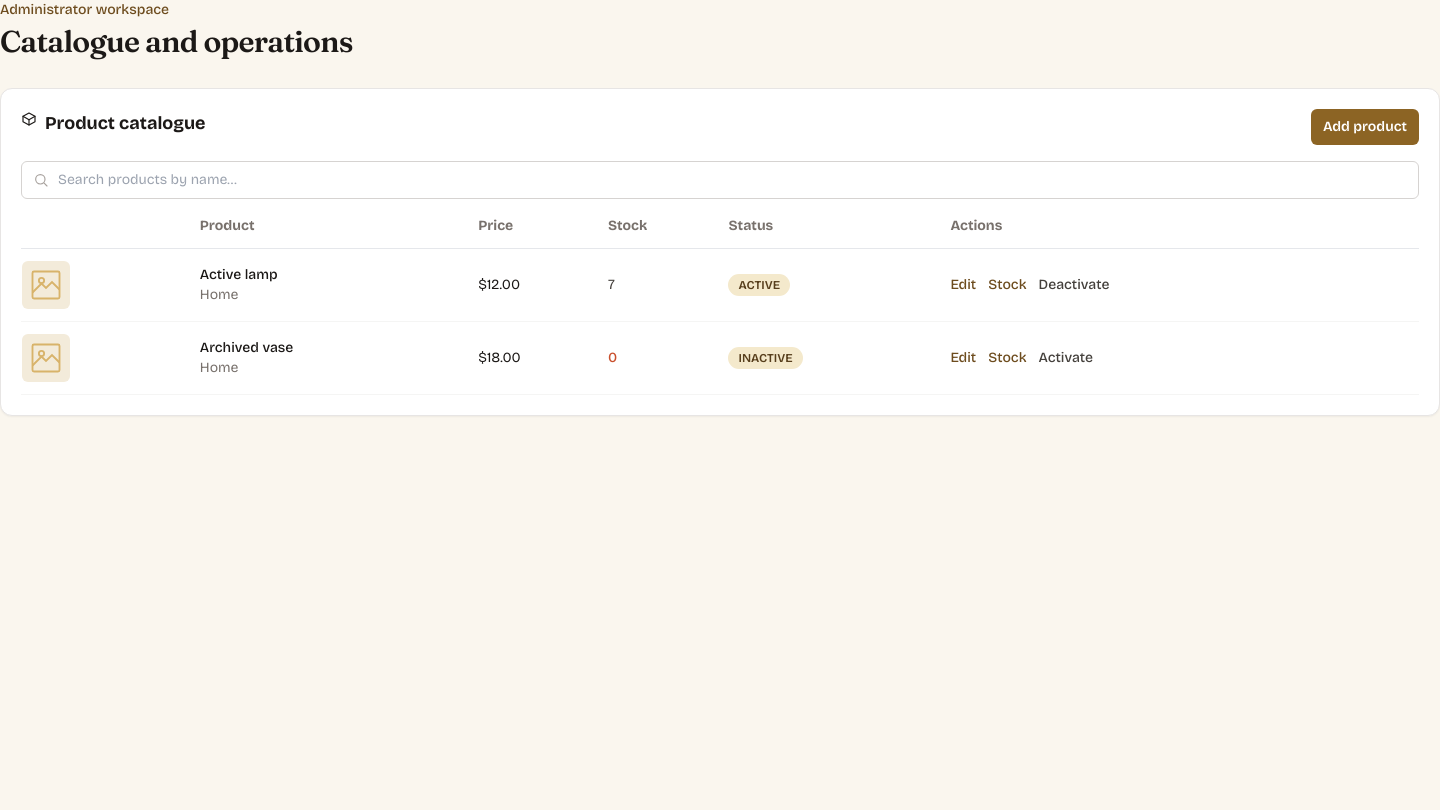
Test: AdminPanel inventory loading › prevents stock from being added twice while a restock is running
Expected: the text "Active lamp" is shown, [200,266,278,283]
Click the button "Stock" in the row of "Active lamp" at (1007, 285), box [988,275,1026,295]
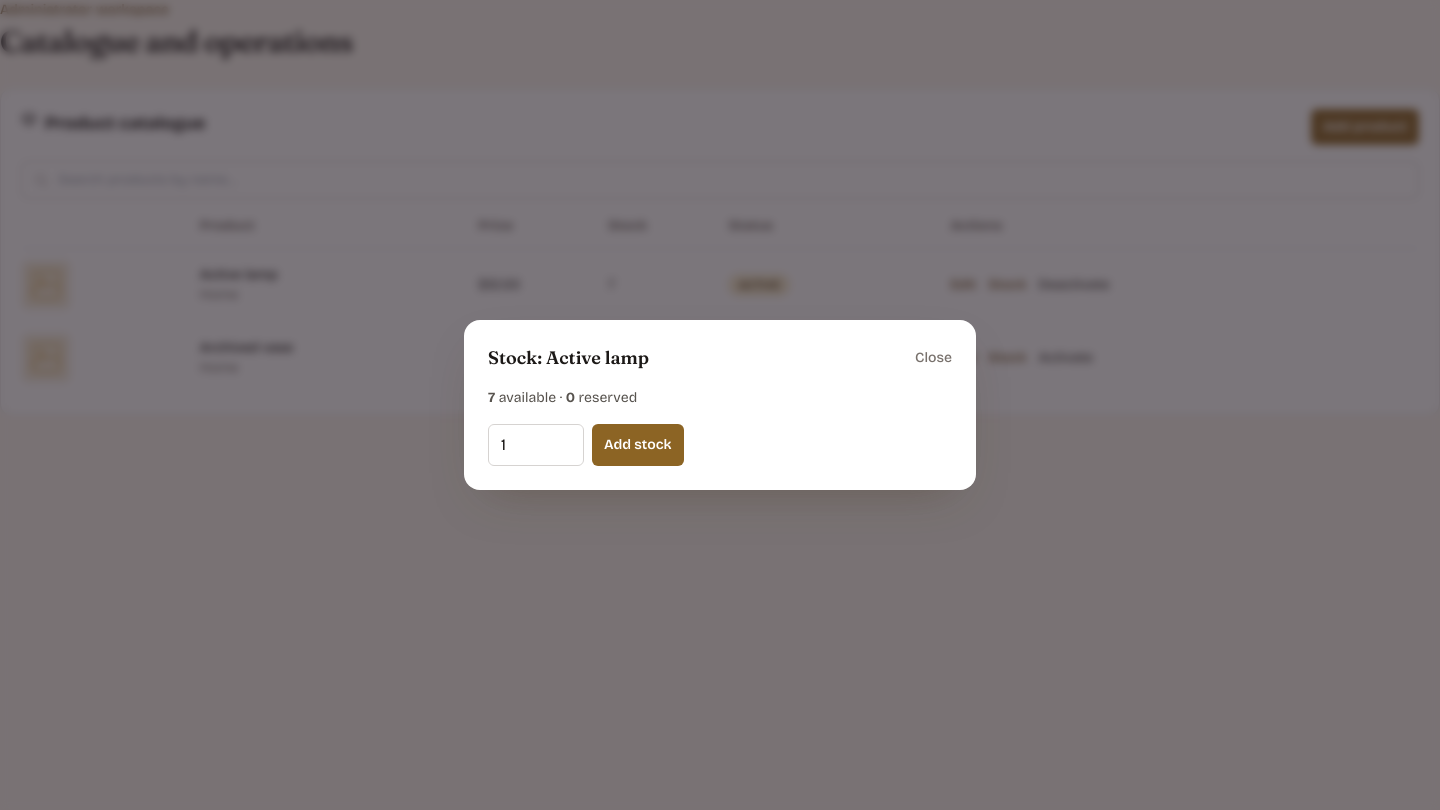
Click the button "Add stock" at (638, 445), box [592,424,684,466]
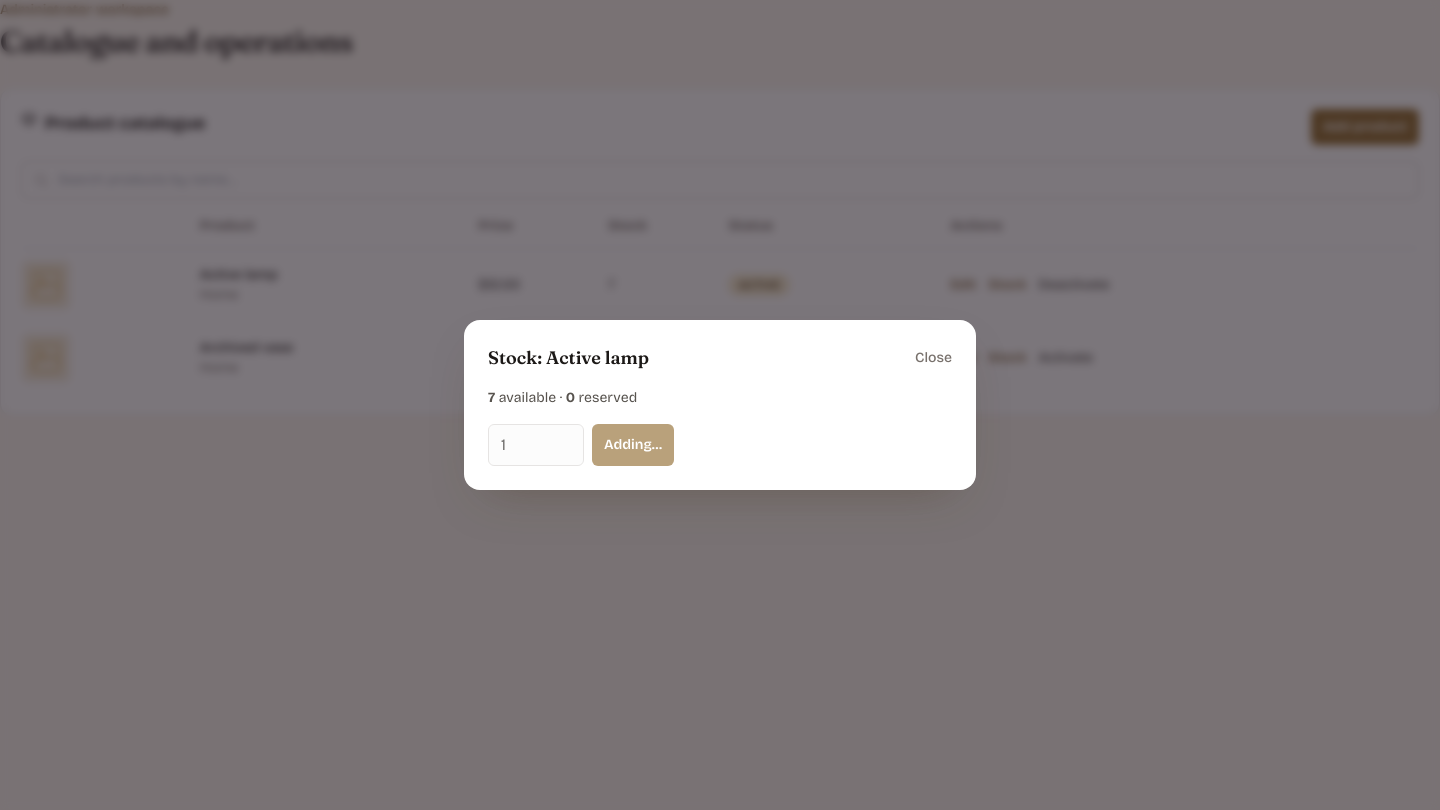
Now the button "Adding…" is disabled
Click the button "Adding…" at (633, 445), box [592,424,674,466]
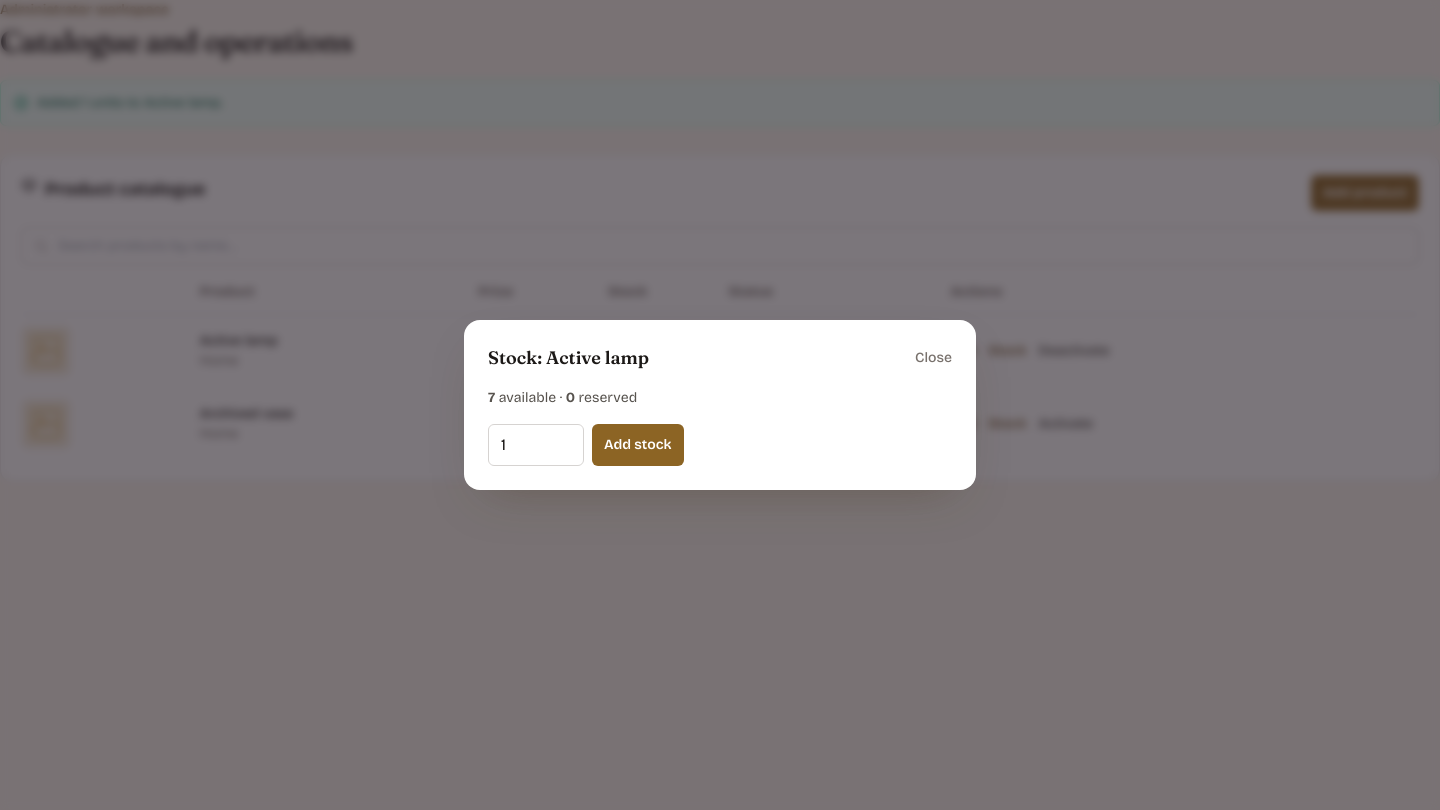
Now the button "Add stock" is enabled, box [592,424,684,466]
